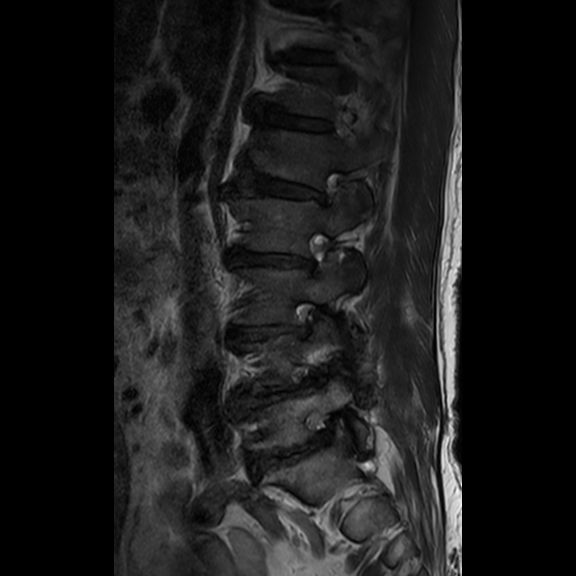RFS0: (293, 224, 336, 284)
